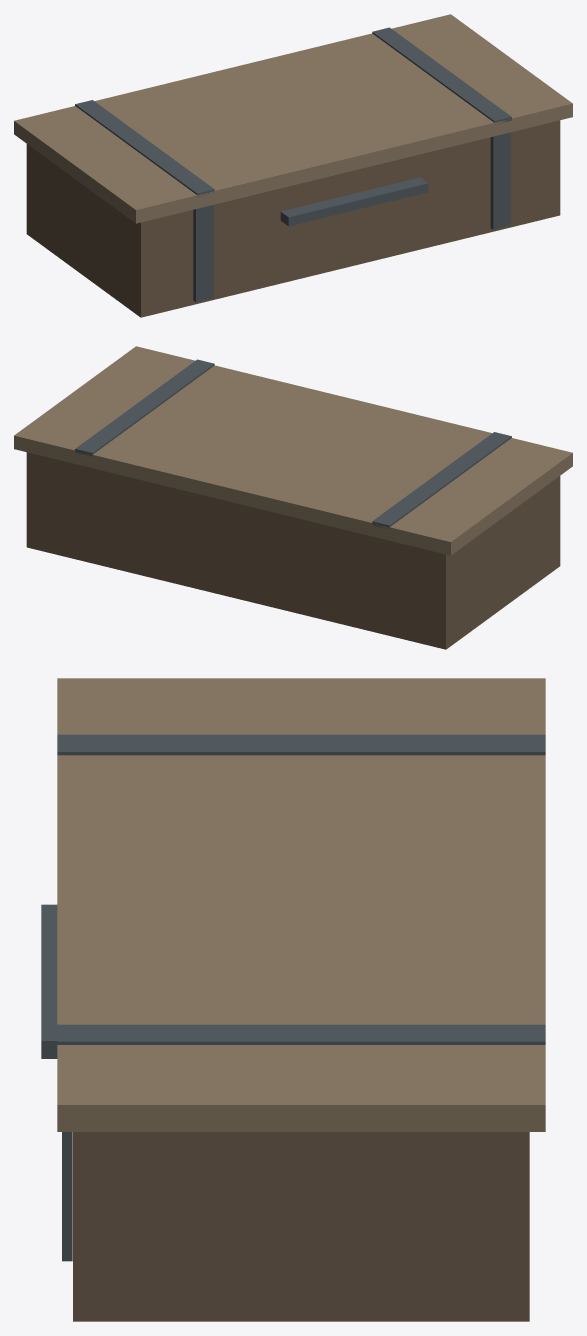
Rendered from ammo_crate.glb.
3 views of the same model, one above another, from view 1: azimuth 30°, elevation 25°; view 2: azimuth 150°, elevation 25°; view 3: azimuth 270°, elevation 25° (orthographic). The views are drawn at different scales.
Visible parts, largest first — view 1: ammo_crate; view 2: ammo_crate; view 3: ammo_crate.
Boxes of the visible parts, left/top/right/bottom form: ammo_crate: left=14, top=14, right=572, bottom=317; ammo_crate: left=14, top=346, right=572, bottom=649; ammo_crate: left=41, top=678, right=545, bottom=1321.
Bounding box in the file's own units: 1.92 × 0.48 × 0.96.
